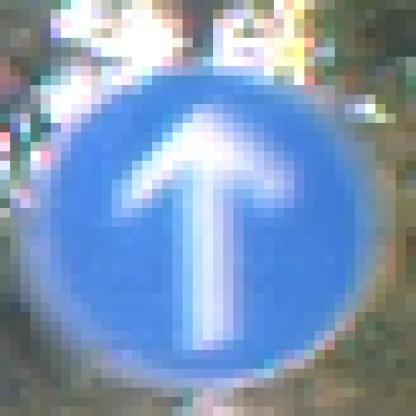AheadOnly: (52, 58, 366, 370)
